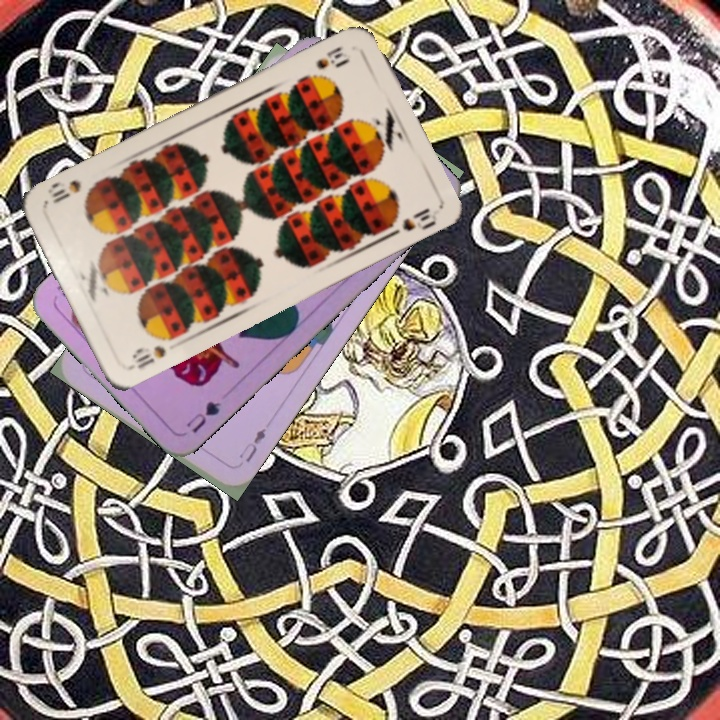EU: (235, 424, 269, 465)
GU: (182, 397, 224, 436)
S10: (128, 341, 169, 372), (312, 42, 351, 72)
